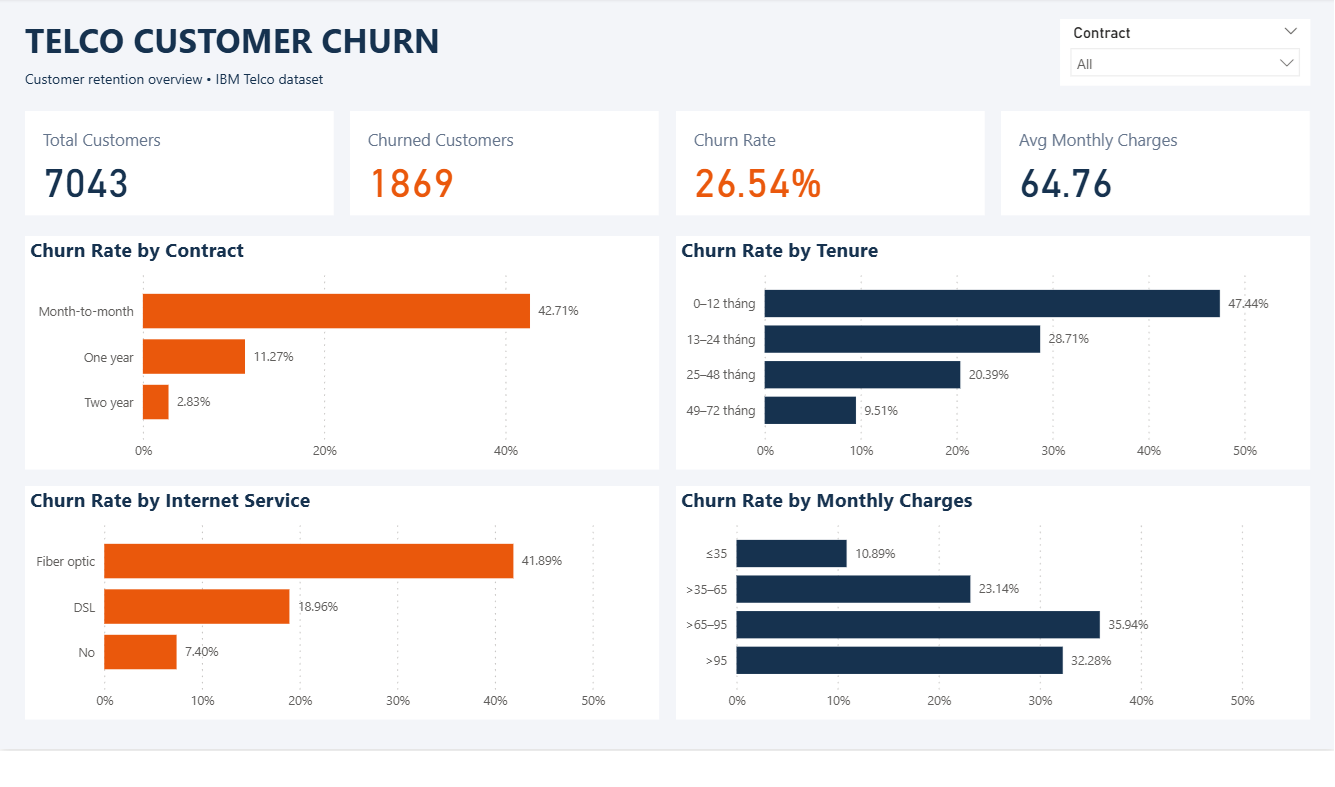

The dashboard page shown, as its layout file describes it:
{"tool":"powerbi","page":{"name":"Churn Overview","canvas":[1280,720],"ordinal":0},"visuals":[{"type":"cardVisual","fields":{"Data":["Customers.Total Customers"]},"box":[24,108,296,100],"z":0},{"type":"cardVisual","fields":{"Data":["Customers.Churned Customers"]},"box":[336,108,296,100],"z":1000},{"type":"cardVisual","fields":{"Data":["Customers.Churn Rate"]},"box":[648,108,296,100],"z":2000},{"type":"cardVisual","fields":{"Data":["Customers.Avg Monthly Charges"]},"box":[960,108,296,100],"z":3000},{"type":"clusteredBarChart","fields":{"Category":["Customers.Contract"],"Y":["Customers.Churn Rate"]},"box":[24,228,608,224],"z":4000},{"type":"clusteredBarChart","title":"Churn Rate by Tenure","fields":{"Category":["Customers.tenure_group"],"Y":["Customers.Churn Rate"]},"box":[648,228,608,224],"z":5000},{"type":"clusteredBarChart","title":"Churn Rate by Internet Service","fields":{"Y":["Customers.Churn Rate"],"Category":["Customers.InternetService"]},"box":[24,468,608,224],"z":6000},{"type":"clusteredBarChart","title":"Churn Rate by Monthly Charges","fields":{"Y":["Customers.Churn Rate"],"Category":["Customers.monthly_charge_group"]},"box":[648,468,608,224],"z":7000},{"type":"slicer","fields":{"Values":["Customers.Contract"]},"box":[1016,20,240,64.2],"z":8000},{"type":"shape","box":[24,16,850,44],"z":9000},{"type":"shape","box":[24,62,850,28],"z":10000}]}

Visuals, with their boxes on the page's 1280x720 design canvas (x1, y1, x2, y2). These are canvas units, not pixel positions in the 1335x787 screenshot, which may show the page scaled, cropped or inside an application window:
cardVisual - Customers.Total Customers: (left=24, top=108, right=320, bottom=208)
cardVisual - Customers.Churned Customers: (left=336, top=108, right=632, bottom=208)
cardVisual - Customers.Churn Rate: (left=648, top=108, right=944, bottom=208)
cardVisual - Customers.Avg Monthly Charges: (left=960, top=108, right=1256, bottom=208)
clusteredBarChart - Customers.Contract x Customers.Churn Rate: (left=24, top=228, right=632, bottom=452)
"Churn Rate by Tenure" clusteredBarChart: (left=648, top=228, right=1256, bottom=452)
"Churn Rate by Internet Service" clusteredBarChart: (left=24, top=468, right=632, bottom=692)
"Churn Rate by Monthly Charges" clusteredBarChart: (left=648, top=468, right=1256, bottom=692)
slicer - Customers.Contract: (left=1016, top=20, right=1256, bottom=84)
shape: (left=24, top=16, right=874, bottom=60)
shape: (left=24, top=62, right=874, bottom=90)
